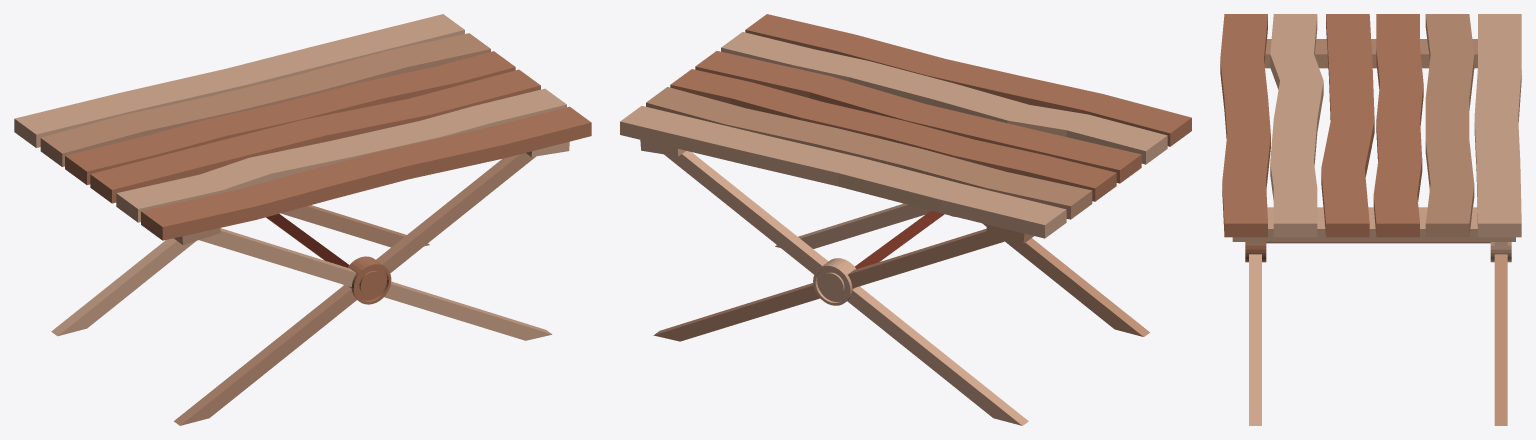
Rendered from MESA.fbx.
3 views of the same model, side by side, from view 1: azimuth 30°, elevation 25°; view 2: azimuth 150°, elevation 25°; view 3: azimuth 270°, elevation 25° (orthographic).
Parts seen in each view (by area): view 1: Cube.011; view 2: Cube.011; view 3: Cube.011.
Part boxes in pixels (<box>): Cube.011: <box>14,14,591,425</box>; Cube.011: <box>620,14,1191,425</box>; Cube.011: <box>1220,14,1521,425</box>.
Size of the model in its own units: 324 by 155 by 197.
